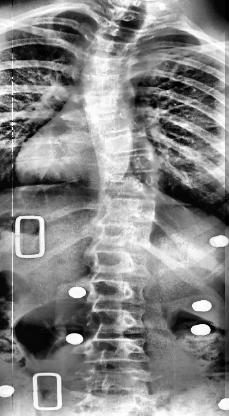Vertebrae: (94, 150, 170, 183), (82, 305, 152, 339), (78, 334, 152, 366), (87, 245, 146, 275), (96, 171, 164, 197), (88, 277, 148, 306), (95, 221, 156, 249), (83, 106, 147, 130), (98, 197, 160, 221), (96, 131, 158, 151), (80, 86, 138, 107), (82, 37, 142, 57), (102, 5, 156, 27), (74, 58, 128, 78), (94, 20, 140, 42)
